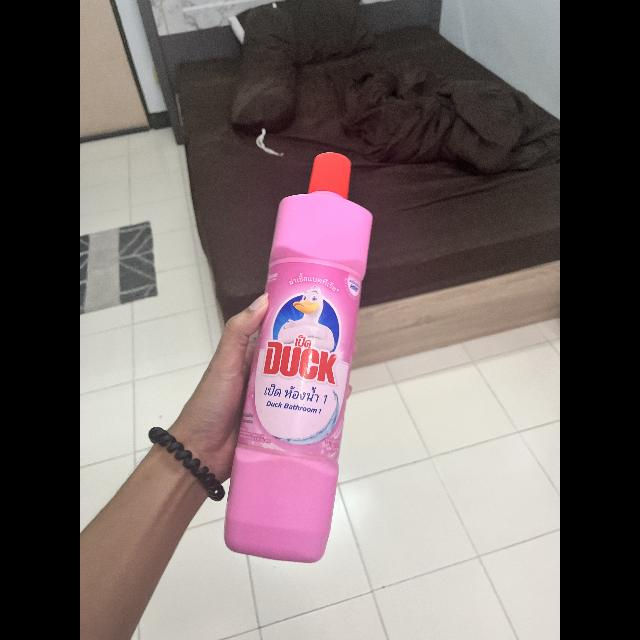chemical_plastic_bottle: (225, 145, 377, 567)
